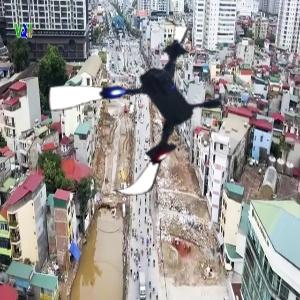drone: (48, 19, 236, 207)
